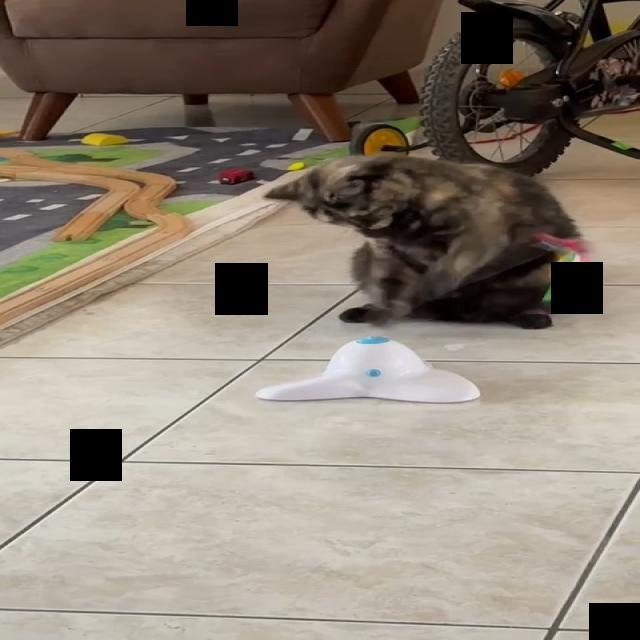authorized: (261, 153, 591, 329)
